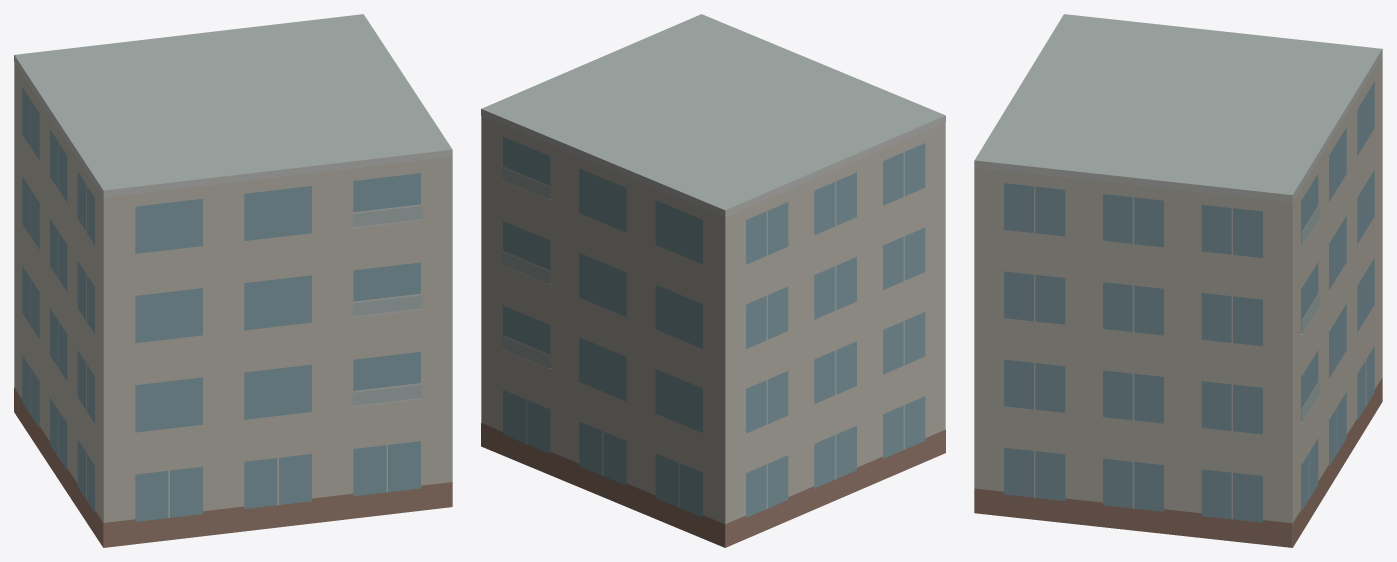
File: residential-620a4922-50bb-4c30-a08d-35a37a18eeca.glb
3 renders of one model, left to right at view 1: azimuth 30°, elevation 25°; view 2: azimuth 150°, elevation 25°; view 3: azimuth 270°, elevation 25°, orthographic. The views are drawn at different scales.
Visible parts, largest first — view 1: residential-620a4922-50bb-4c30-a08d-35a37a18eeca.tmp; view 2: residential-620a4922-50bb-4c30-a08d-35a37a18eeca.tmp; view 3: residential-620a4922-50bb-4c30-a08d-35a37a18eeca.tmp.
Part boxes in pixels (bbox=[...]): residential-620a4922-50bb-4c30-a08d-35a37a18eeca.tmp: bbox=[14, 14, 452, 547]; residential-620a4922-50bb-4c30-a08d-35a37a18eeca.tmp: bbox=[481, 14, 945, 547]; residential-620a4922-50bb-4c30-a08d-35a37a18eeca.tmp: bbox=[974, 14, 1382, 547].
Bounding box in the file's own units: 13.44 × 12.2 × 12.8.
